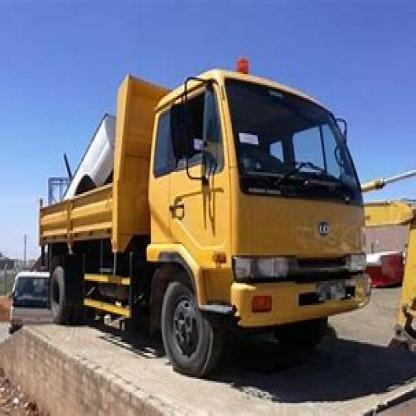dump_truck: (30, 44, 378, 383)
